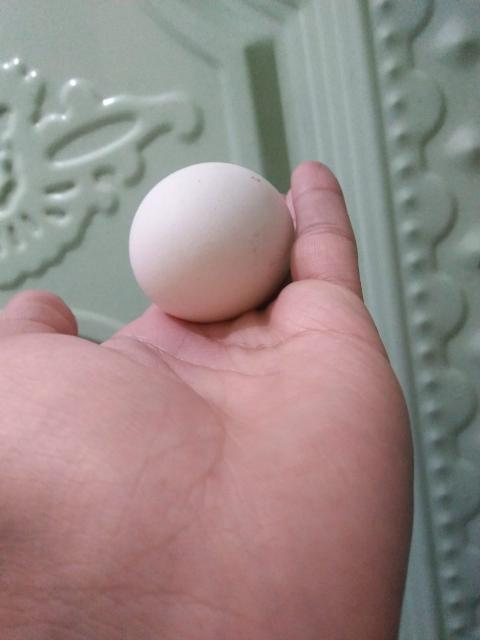Sano: (127, 160, 295, 323)
